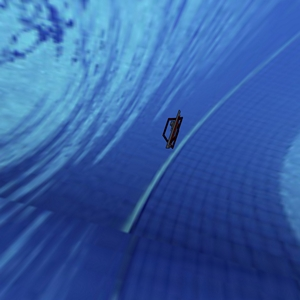submarine: (146, 99, 199, 163)
